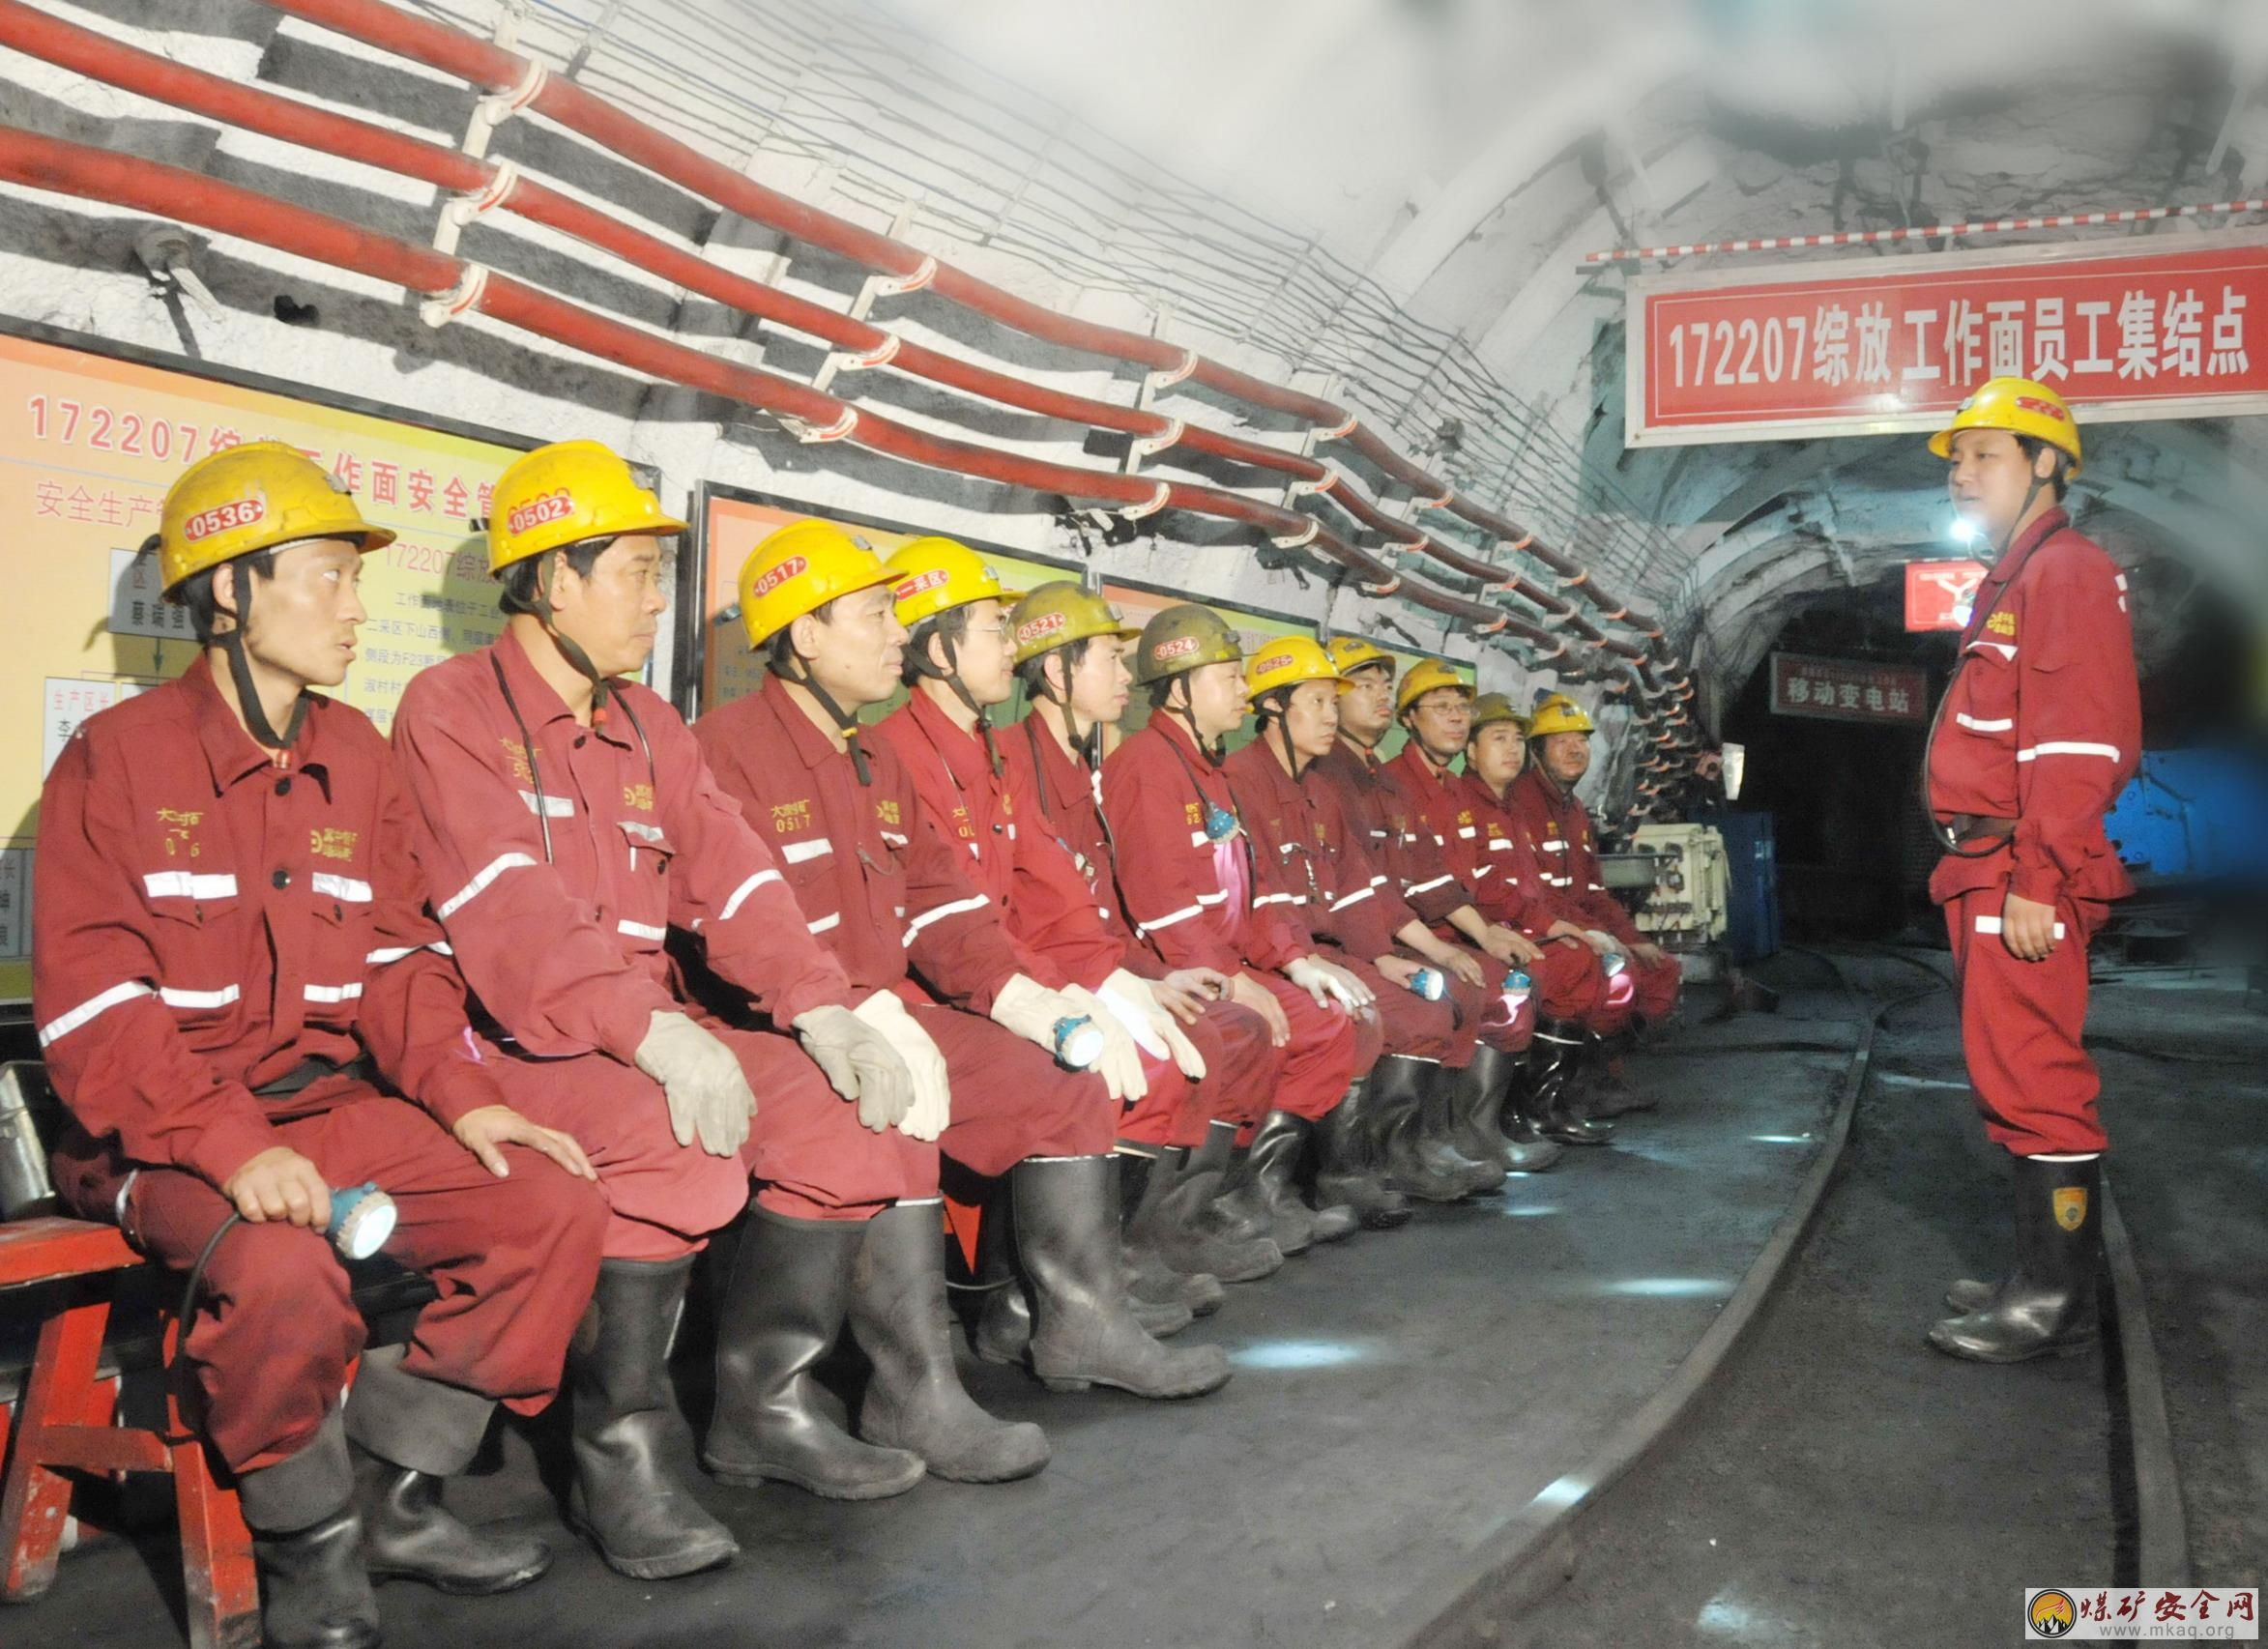helmet: (134, 417, 389, 702), (465, 426, 694, 699), (734, 503, 900, 702), (1919, 371, 2101, 542), (873, 523, 1030, 706), (1122, 583, 1257, 753), (1012, 574, 1134, 725), (1245, 632, 1338, 764), (1395, 651, 1484, 764)
